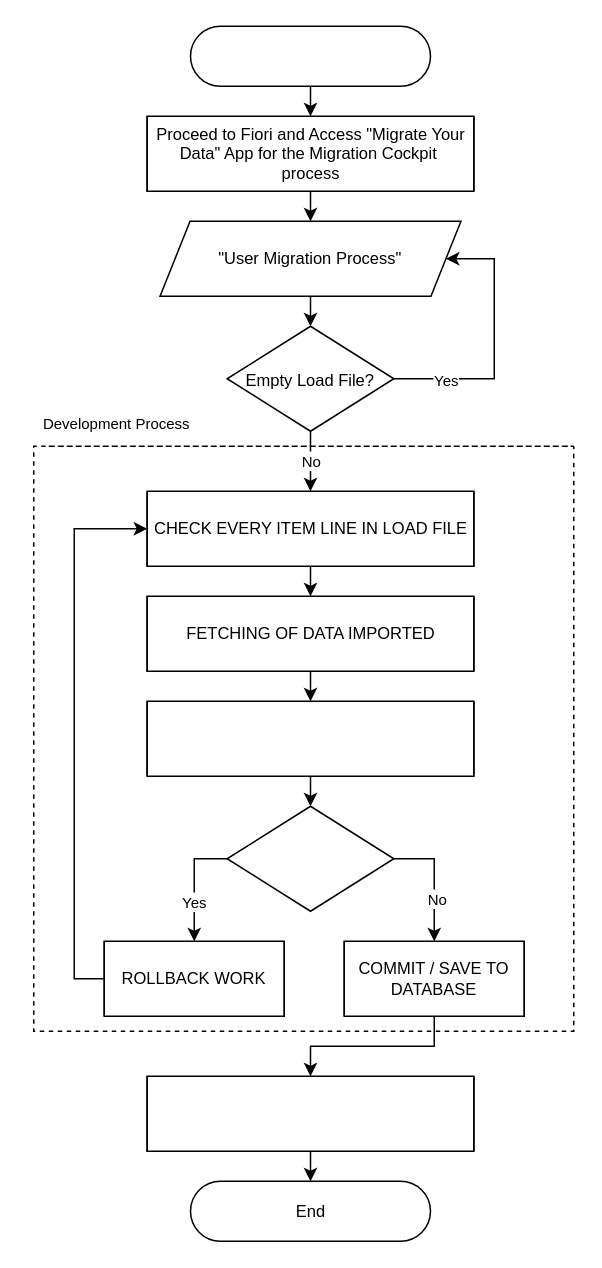
Some shapes in this 602 by 1268 pixel diagram are drawn without their labels. The centre of each missing label's shape, as x and y in pixels:
Error?: (310,858)
Migration Successful: (310,1113)
Start: (309,55)
Z_DMC_MIG_CLASSIFICATION_UPD: (310,738)
